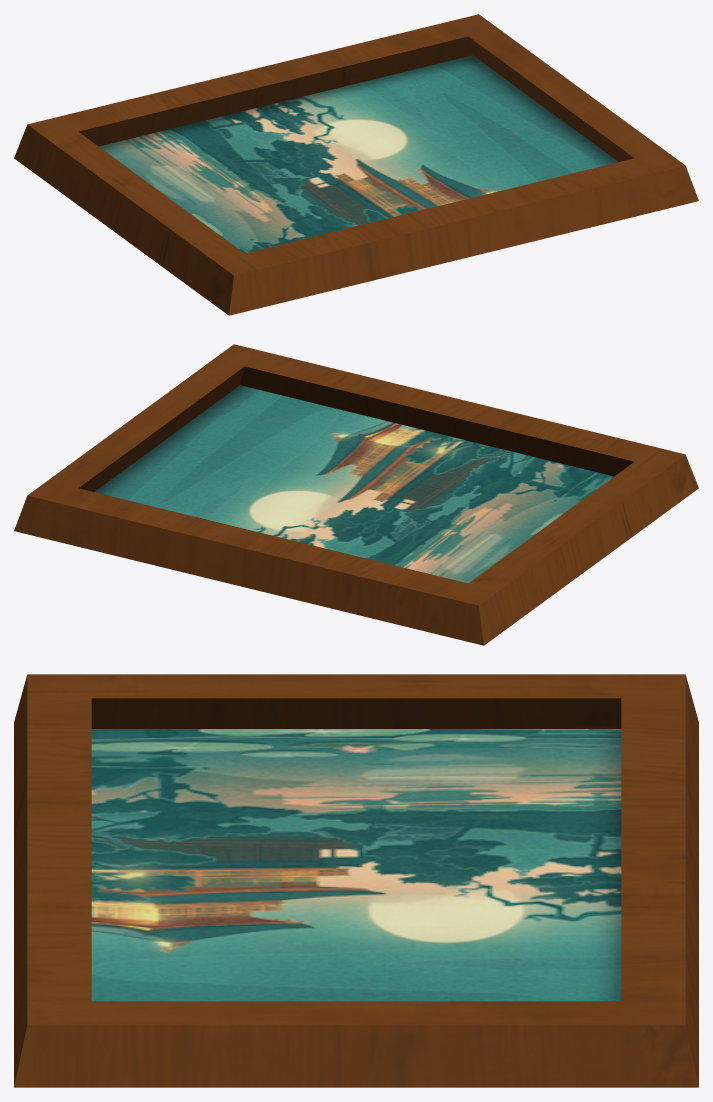
Rendered from museum_painting2.fbx.
3 renders of one model, top to bottom at view 1: azimuth 30°, elevation 25°; view 2: azimuth 150°, elevation 25°; view 3: azimuth 270°, elevation 25°, orthographic. The views are drawn at different scales.
Visible parts, largest first — view 1: pCube1; view 2: pCube1; view 3: pCube1.
Part boxes in pixels (box(x1,y1,x2,y2)): pCube1: box(14, 14, 698, 315); pCube1: box(14, 344, 698, 645); pCube1: box(14, 674, 698, 1087).
Size of the model in its own units: 3.38 by 0.2387 by 2.68.
